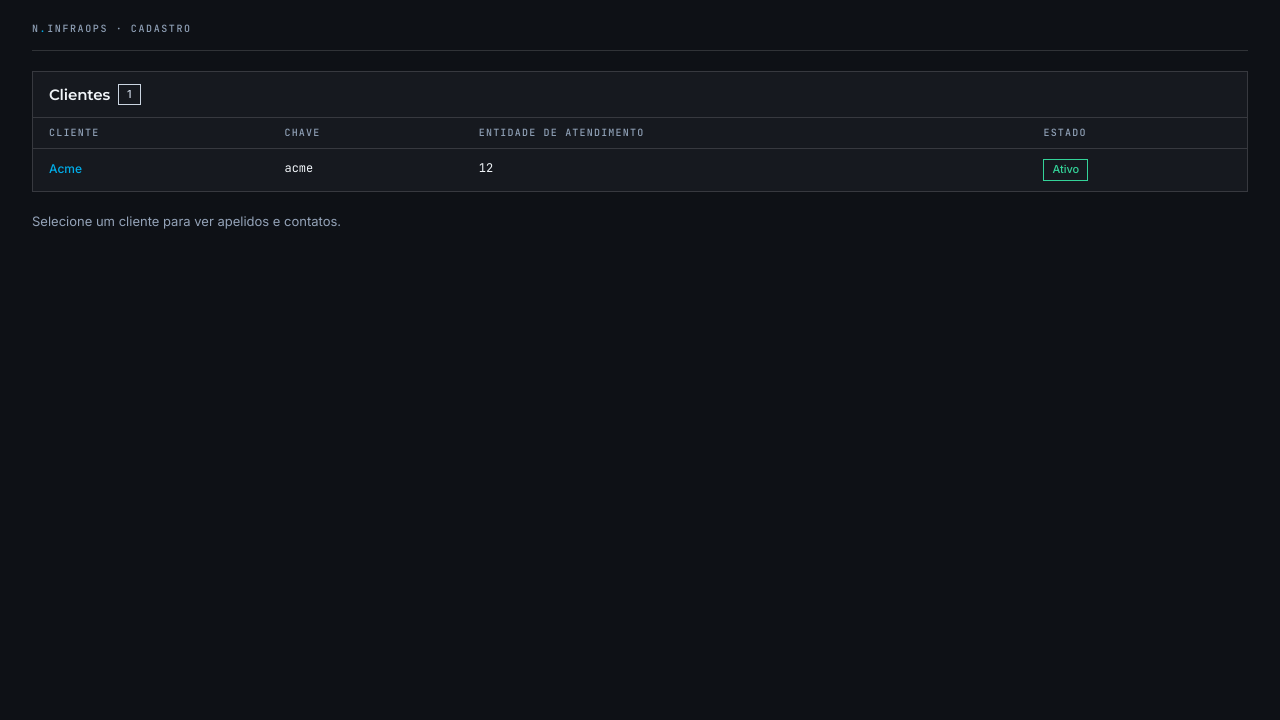
Test: round 2 P2: refresh button reloads the new screens › customers and the selected customer contacts reload, keeping the selection
The width and height of the screenshot is (1280, 720).
Click the button "Acme" at (66, 169), box [49,163,82,175]
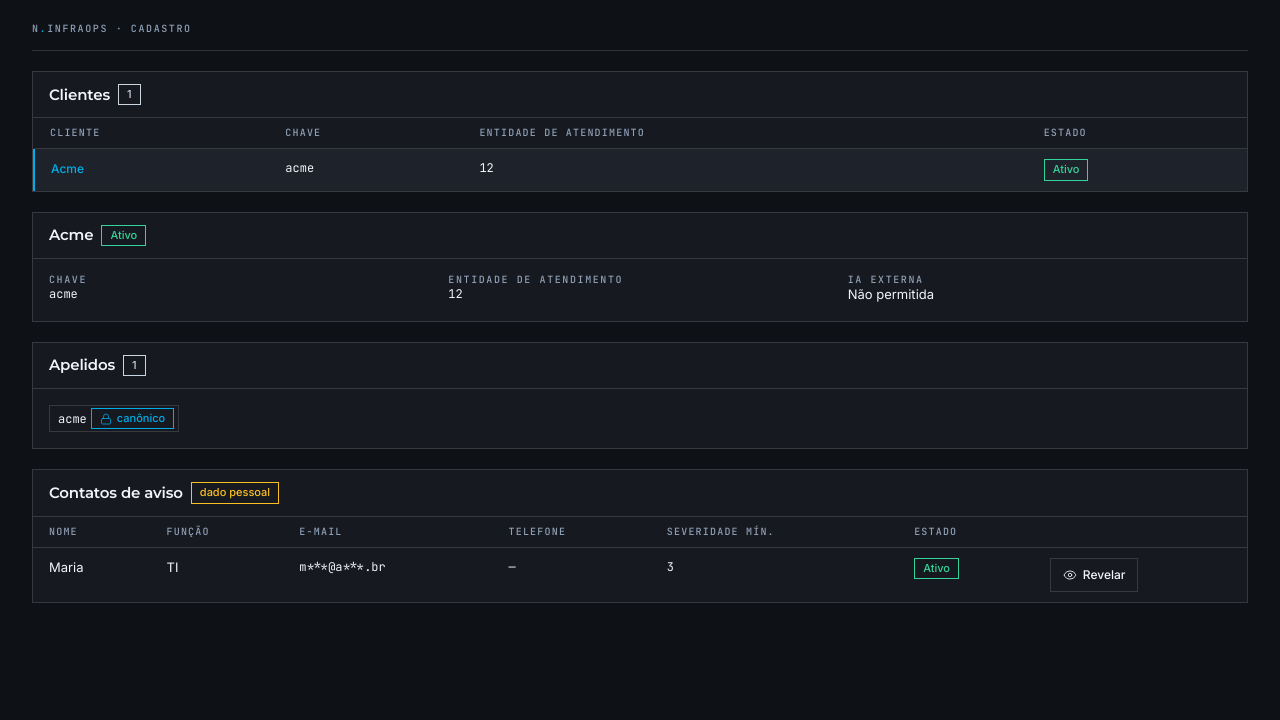
Expected: the text "Contatos de aviso" is shown, [49,484,183,502]
